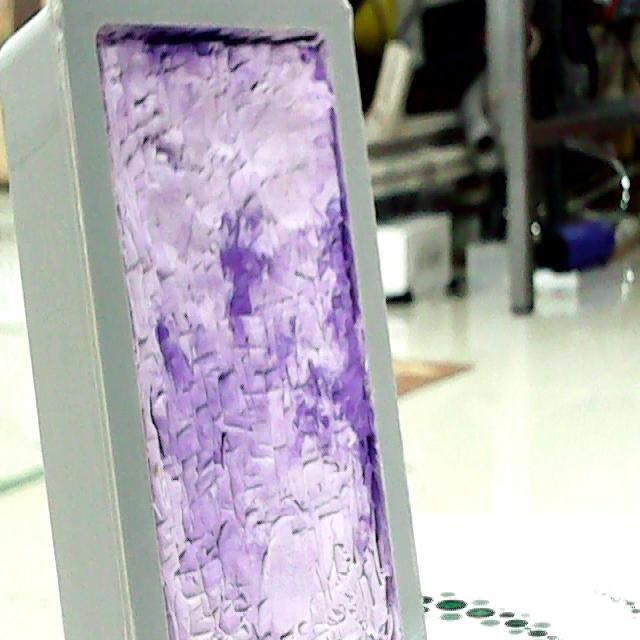block: (2, 3, 431, 635)
